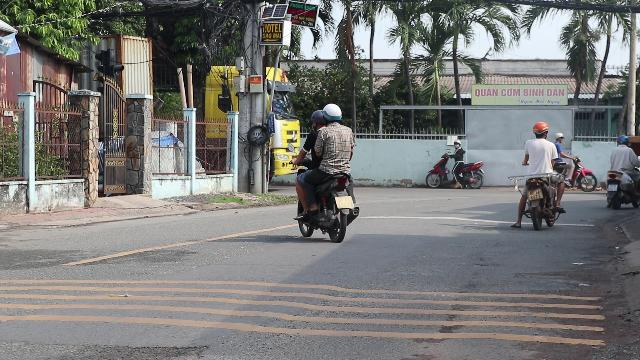helmet: (322, 103, 342, 124), (531, 121, 549, 138), (310, 109, 326, 128)
licenseplate: (334, 195, 354, 209), (527, 189, 543, 199)
motorcyclist: (290, 102, 362, 242), (512, 120, 566, 228)
